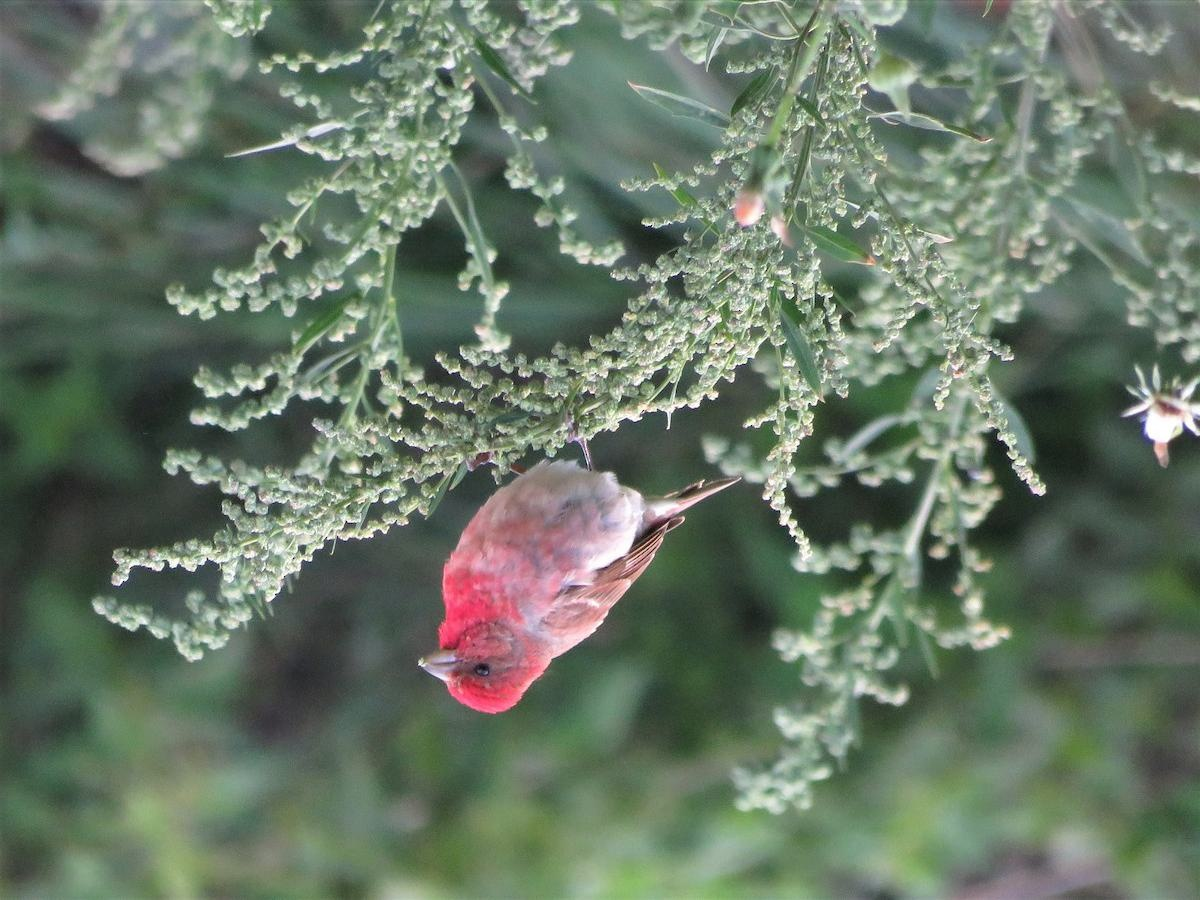rosefinch: (404, 418, 741, 713)
